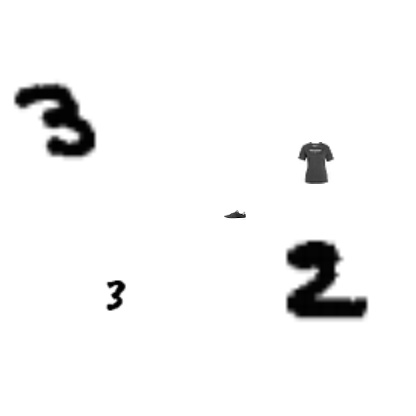1: (21, 144, 35, 158)
2: (263, 225, 375, 337)
3: (3, 60, 115, 172), (94, 273, 136, 315)
4: (345, 324, 359, 338)
Sneaker: (224, 203, 246, 225)
T-shirt/top: (295, 142, 337, 184)
